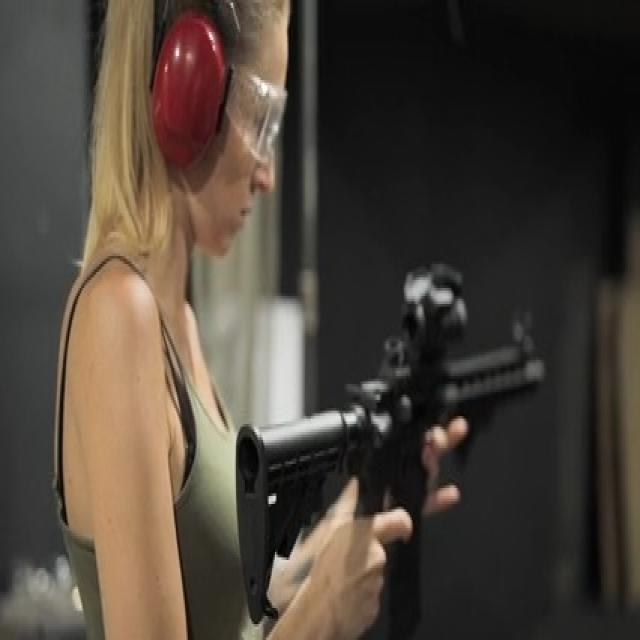Gun_Holder: (223, 243, 626, 640)
Person: (54, 0, 392, 640)
